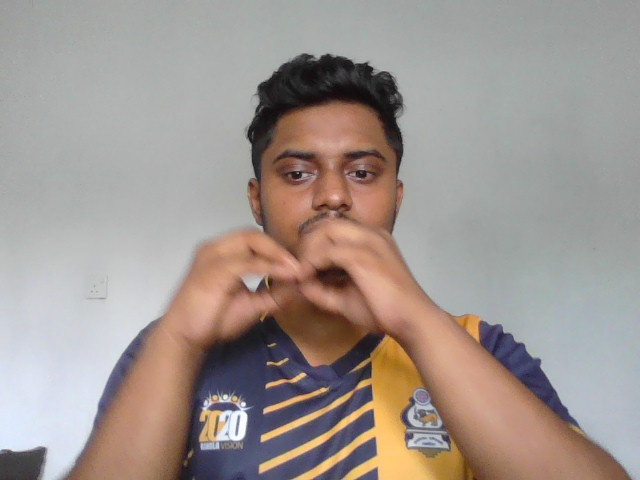More: (171, 217, 415, 353)
